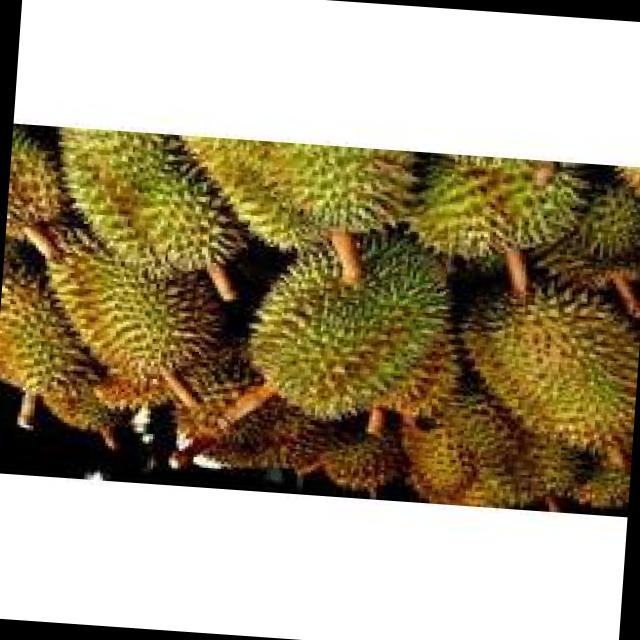fruit: (0, 123, 274, 465), (206, 196, 500, 470), (441, 226, 640, 489)
